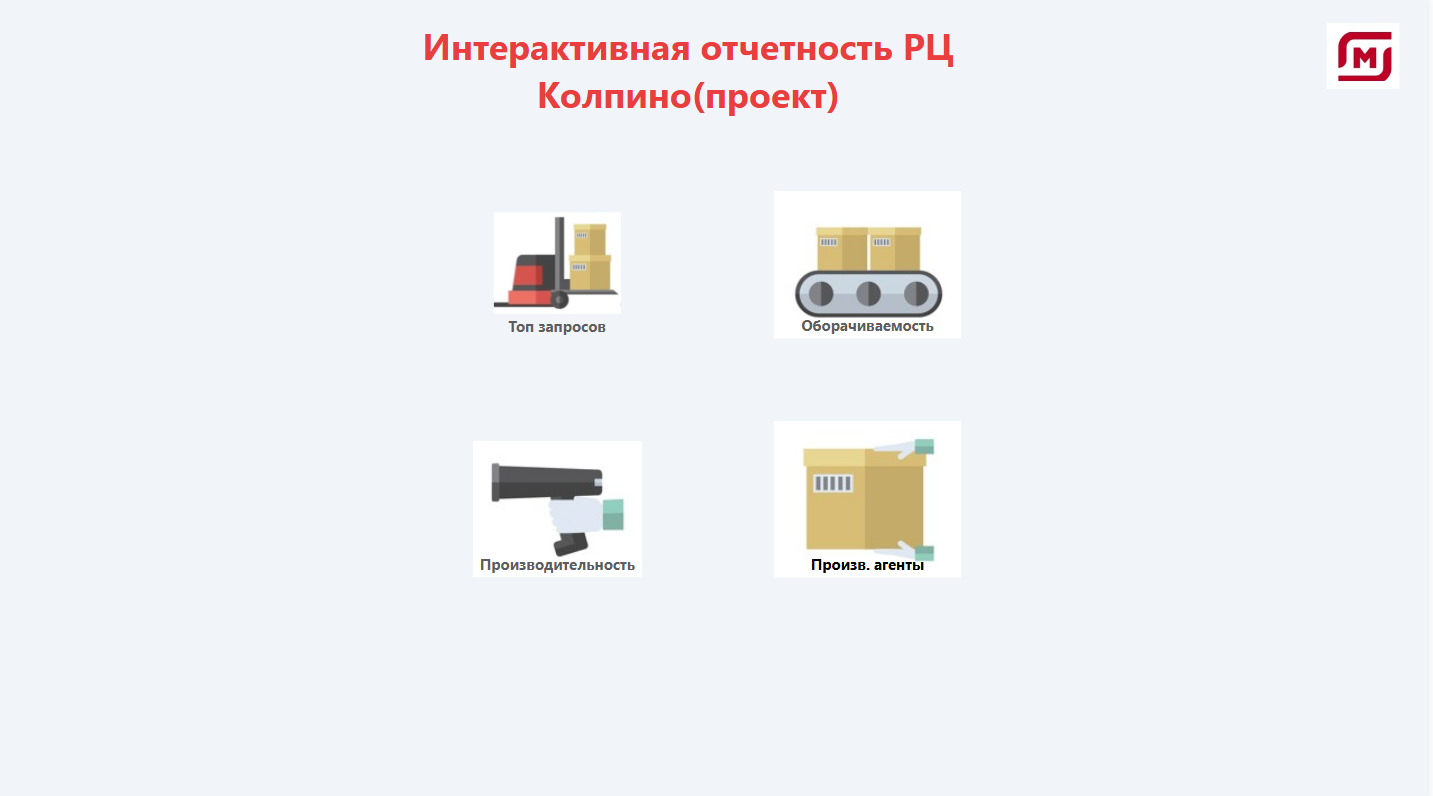

The dashboard page shown, as its layout file describes it:
{"tool":"powerbi","page":{"name":"Главная страница","canvas":[1280,720],"ordinal":0},"visuals":[{"type":"textbox","box":[251.8,18.6,739.5,104.6],"z":0},{"type":"actionButton","box":[443.4,171.9,121.7,135.7],"z":1000},{"type":"image","box":[1186,19,75,72],"z":2000},{"type":"actionButton","box":[697.8,176,166.9,131.7],"z":3000},{"type":"actionButton","box":[429.4,399.2,150.8,121.7],"z":4000},{"type":"actionButton","box":[697.8,381.1,166.9,139.8],"z":5000}]}

Visuals, with their boxes in screenshot pixels (x1, y1, x2, y2), scaled from the page's 1280x720 canvas onto the 1433x796 screenshot:
textbox: <region>282, 21, 1110, 136</region>
actionButton: <region>496, 190, 633, 340</region>
image: <region>1328, 21, 1412, 101</region>
actionButton: <region>781, 195, 968, 340</region>
actionButton: <region>481, 441, 650, 576</region>
actionButton: <region>781, 421, 968, 576</region>
